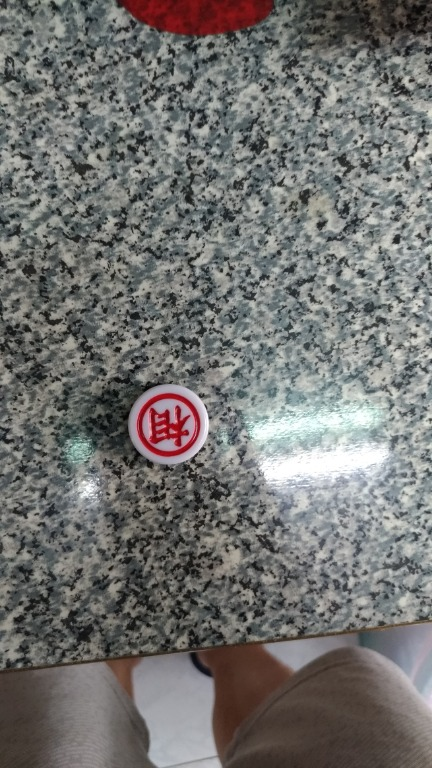r-elephant: (117, 377, 229, 475)
